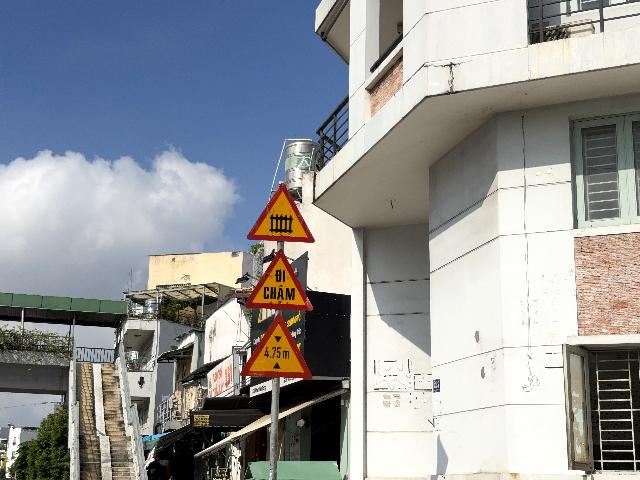chieu-cao-tinh-khong-thuc-te: (240, 313, 313, 379)
di-cham: (244, 249, 313, 311)
noi-giao-nhau-voi-duong-sat-co-rao-chan: (246, 183, 315, 243)
